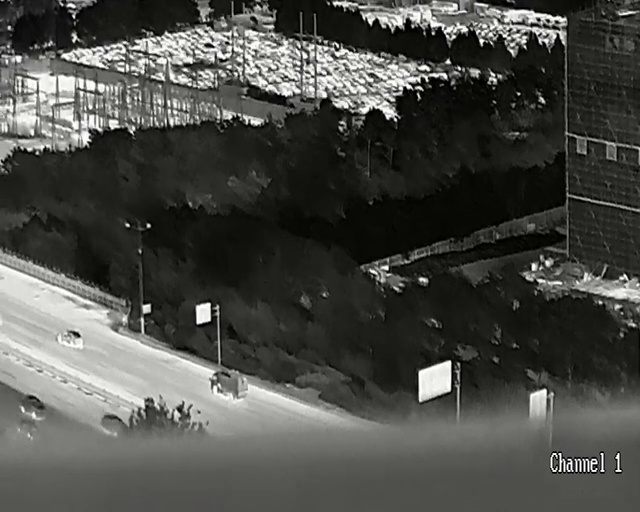uav: (28, 205, 39, 215)
